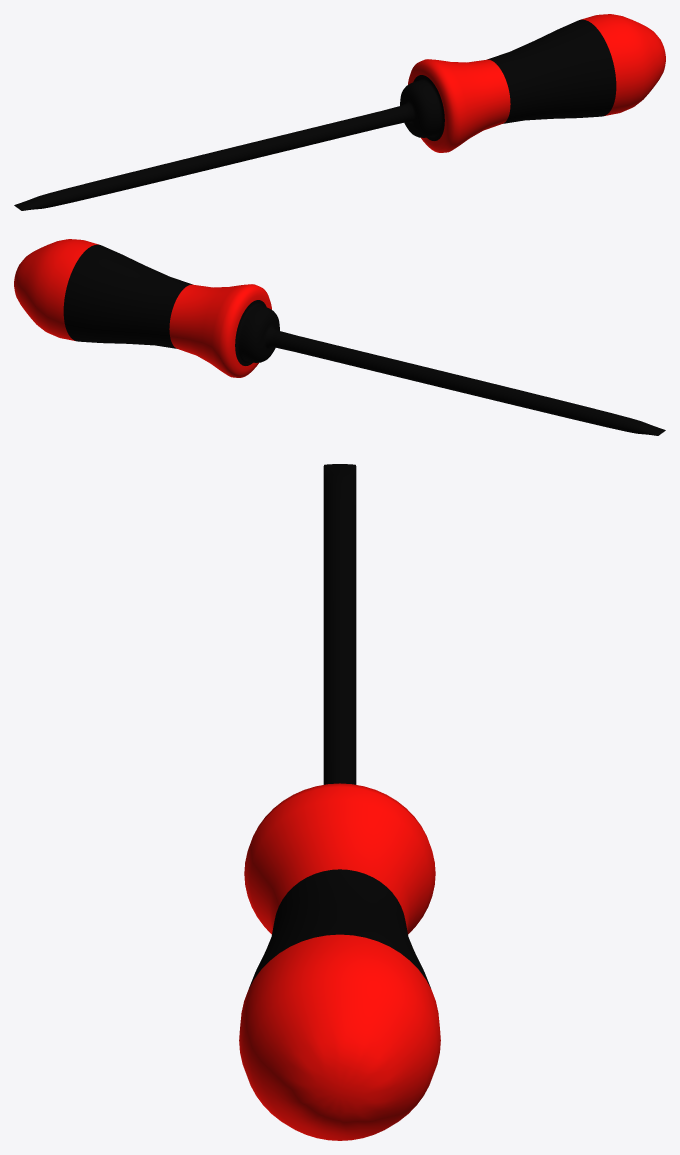
File: tournevis.fbx
The picture shows the model from 3 angles, top to bottom: view 1: azimuth 30°, elevation 25°; view 2: azimuth 150°, elevation 25°; view 3: azimuth 270°, elevation 25°; orthographic projection. The views are drawn at different scales.
Parts seen in each view (by area): view 1: Tournevis; view 2: Tournevis; view 3: Tournevis.
Part boxes in pixels (x1=…): Tournevis: x1=14, y1=14, x2=665, y2=210; Tournevis: x1=14, y1=239, x2=665, y2=435; Tournevis: x1=239, y1=464, x2=440, y2=1140.
Bounding box in the file's own units: 536 × 72.77 × 72.77.
